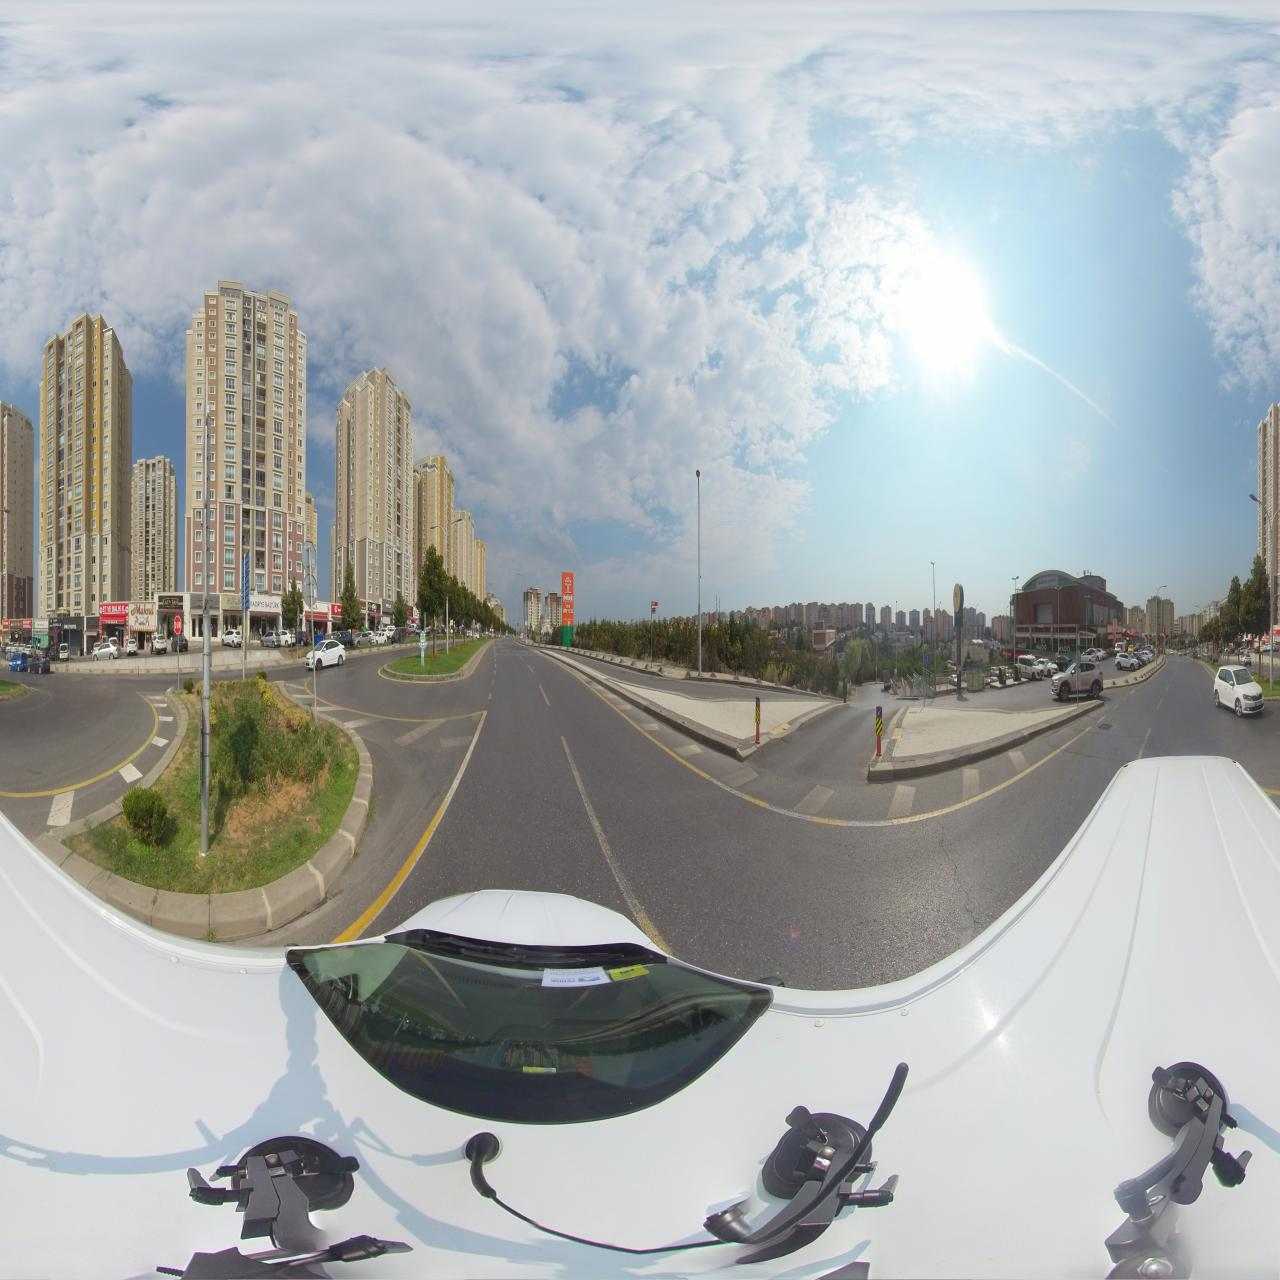SignStore: (129, 602, 155, 618), (100, 602, 129, 615), (251, 598, 280, 611), (225, 595, 241, 611), (163, 598, 181, 608), (49, 618, 61, 627), (34, 621, 48, 628), (11, 620, 22, 628), (22, 620, 32, 629), (384, 600, 393, 611), (333, 605, 341, 615), (64, 624, 77, 629), (368, 601, 375, 612), (313, 602, 319, 611), (4, 620, 9, 627)
